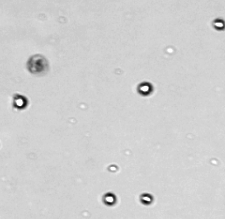Dead Cell: (27, 54, 48, 74)
Living Cell: (12, 95, 27, 109), (137, 82, 153, 95), (103, 193, 116, 205), (140, 194, 152, 204), (214, 18, 224, 30)
